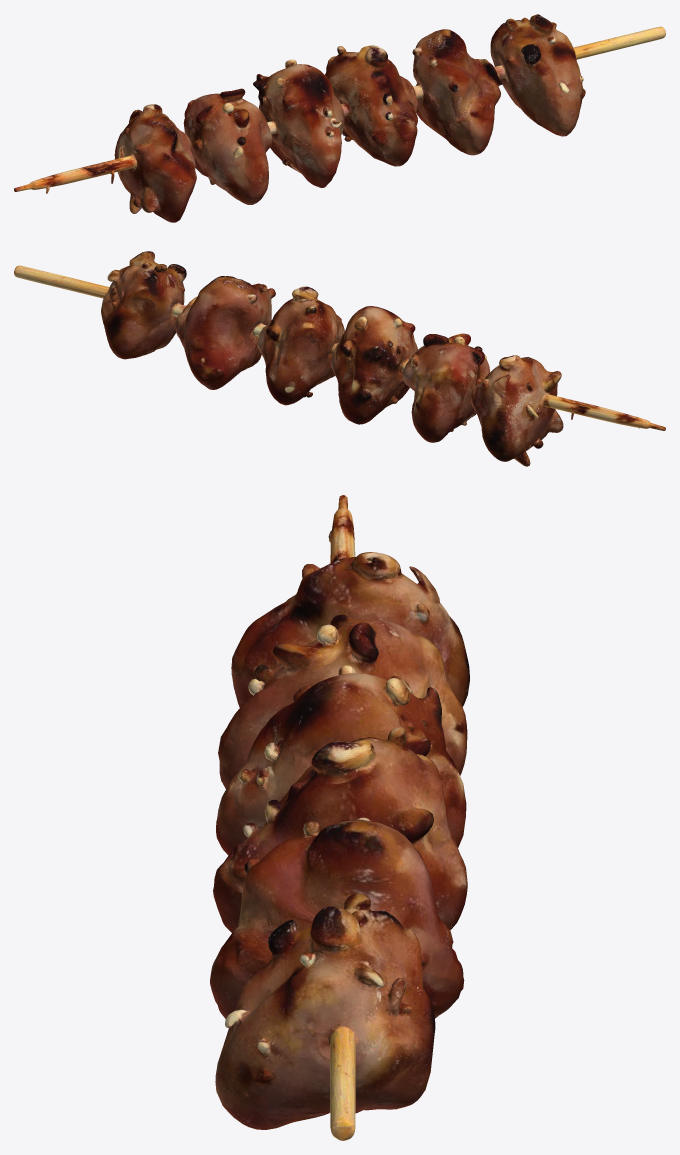
The model's file is chicken-heart-skewer.glb.
3 views of the same model, one above another, from view 1: azimuth 30°, elevation 25°; view 2: azimuth 150°, elevation 25°; view 3: azimuth 270°, elevation 25° (orthographic). The views are drawn at different scales.
Parts seen in each view (by area): view 1: Mesh_0; view 2: Mesh_0; view 3: Mesh_0.
Part boxes in pixels (<box>): Mesh_0: <box>14,14,665,222</box>; Mesh_0: <box>14,251,665,466</box>; Mesh_0: <box>210,495,469,1140</box>.
Size of the model in its own units: 0.9995 by 0.1686 by 0.1733.
Materials: 1 (1 with a texture image).
